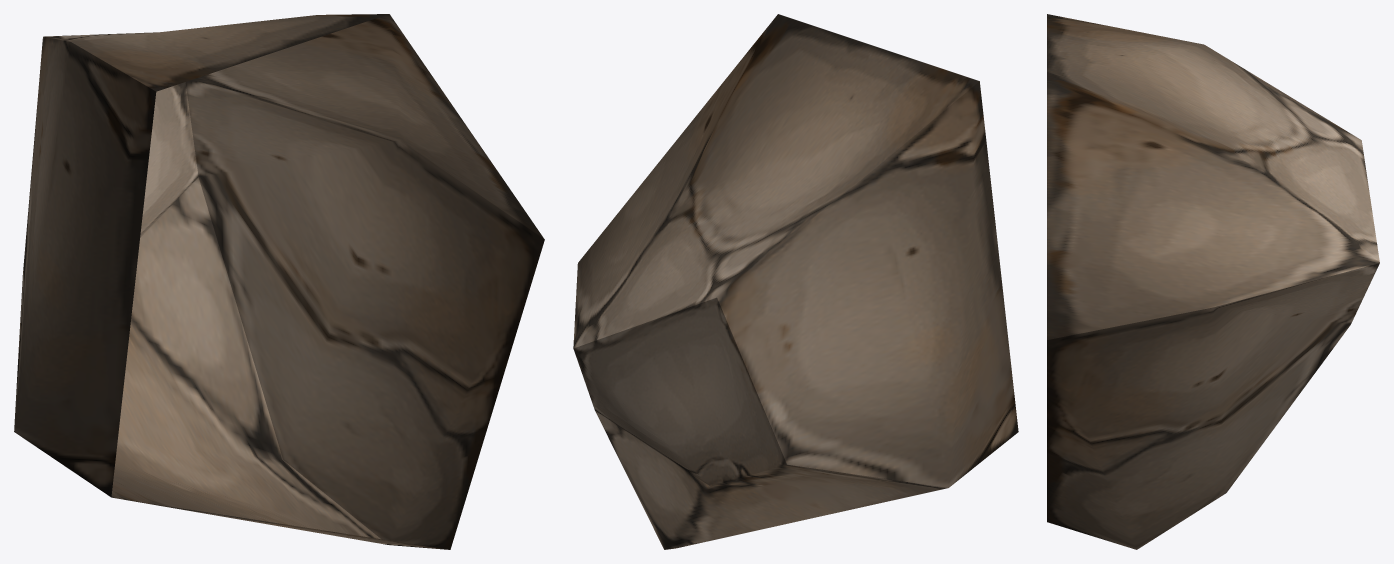
The model's file is Rock 02.FBX.
3 renders of one model, left to right at view 1: azimuth 30°, elevation 25°; view 2: azimuth 150°, elevation 25°; view 3: azimuth 270°, elevation 25°, orthographic. The views are drawn at different scales.
Visible parts, largest first — view 1: env_rock02; view 2: env_rock02; view 3: env_rock02.
Part boxes in pixels (bbox=[...]): env_rock02: bbox=[14, 14, 544, 549]; env_rock02: bbox=[573, 14, 1018, 549]; env_rock02: bbox=[1047, 14, 1379, 549].
Bounding box in the file's own units: 62.05 × 79.05 × 53.7.
